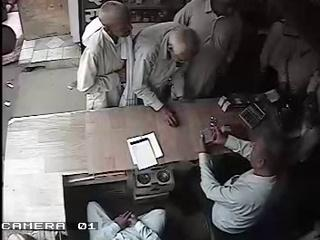Normal: (198, 121, 291, 240), (127, 22, 201, 128), (172, 0, 244, 100), (258, 0, 320, 94), (86, 200, 166, 240)
shoplifting: (76, 1, 134, 110)
